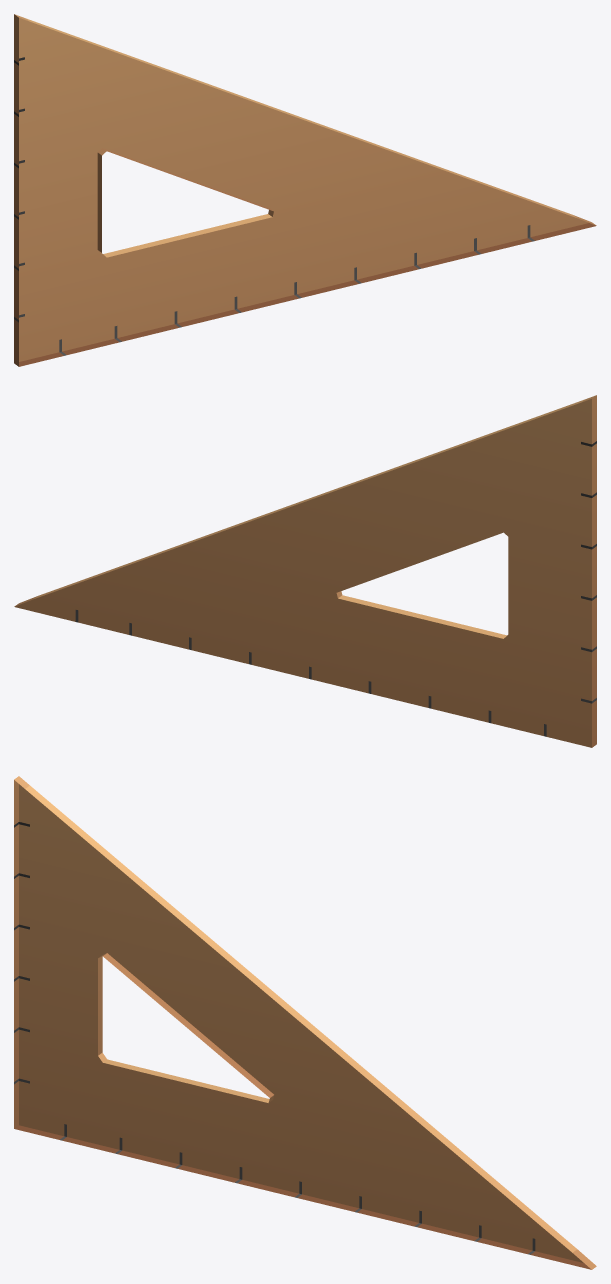
Rendered from CR_TRuller.FBX.
The picture shows the model from 3 angles, top to bottom: view 1: azimuth 30°, elevation 25°; view 2: azimuth 150°, elevation 25°; view 3: azimuth 330°, elevation 25°; orthographic projection.
Parts seen in each view (by area): view 1: CR_TRuller; view 2: CR_TRuller; view 3: CR_TRuller.
Boxes of the visible parts, left/top/right/bottom form: CR_TRuller: left=14, top=14, right=596, bottom=366; CR_TRuller: left=14, top=395, right=596, bottom=747; CR_TRuller: left=14, top=776, right=596, bottom=1269.
Bounding box in the file's own units: 53.4 × 30.83 × 0.7978.
1 material, 1 textured.
